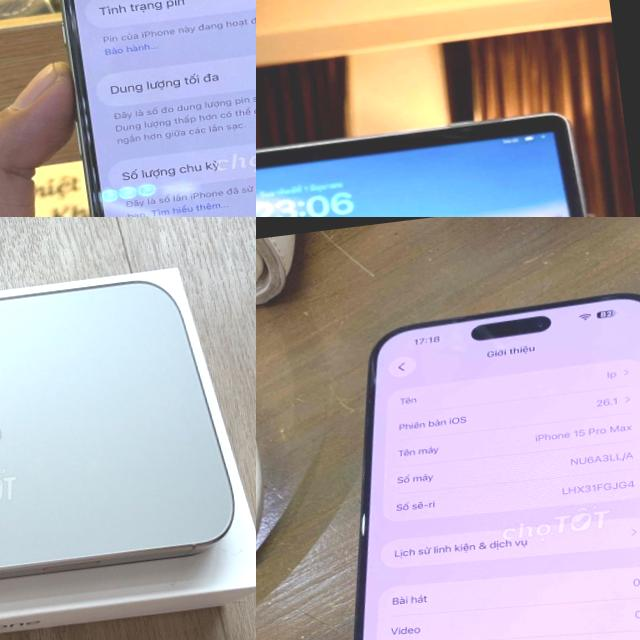gen_15: (298, 272, 640, 640)
gen_16: (0, 265, 244, 618)
gen_17: (38, 0, 256, 217)
